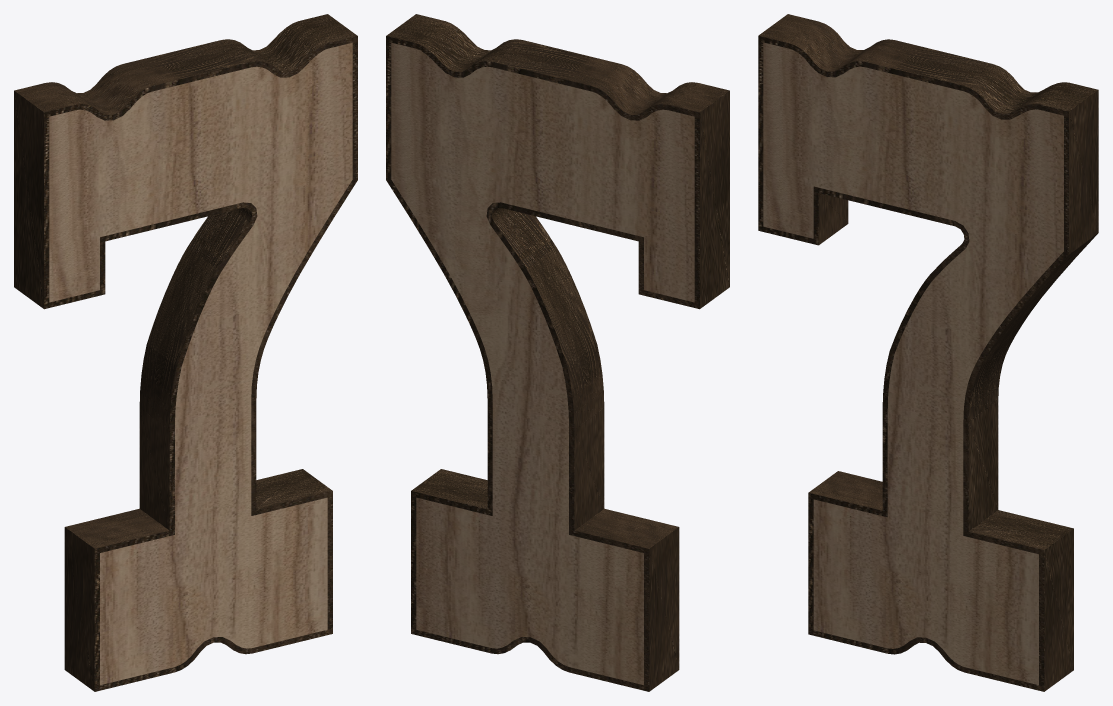
3 renders of one model, left to right at view 1: azimuth 30°, elevation 25°; view 2: azimuth 150°, elevation 25°; view 3: azimuth 330°, elevation 25°, orthographic.
Parts seen in each view (by area): view 1: 7, 7_outline; view 2: 7, 7_outline; view 3: 7, 7_outline.
Boxes of the visible parts, box(x1,y1,x2,y2) form: 7: box(49, 42, 352, 685); 7_outline: box(14, 14, 357, 691); 7: box(391, 42, 694, 685); 7_outline: box(386, 14, 729, 691); 7: box(763, 42, 1063, 685); 7_outline: box(758, 14, 1098, 691).
Bounding box in the file's own units: 60.35 × 109 × 10.
Materials: 2 (2 with a texture image).
